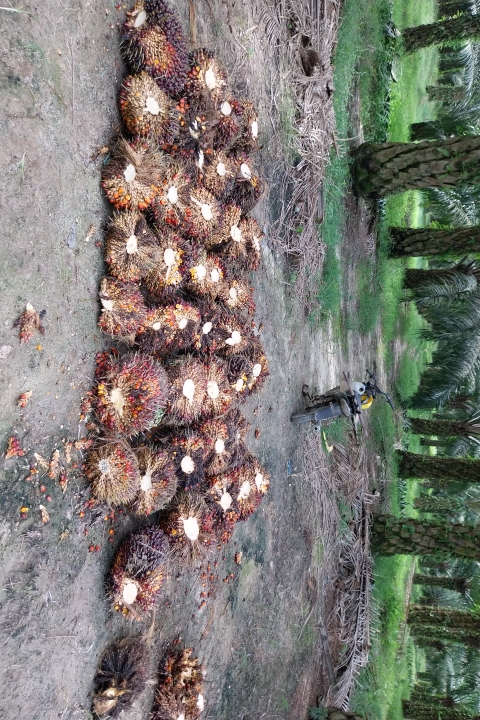janjang: (97, 341, 167, 436), (121, 1, 192, 92), (104, 134, 161, 209), (117, 66, 175, 136), (156, 224, 189, 295)
